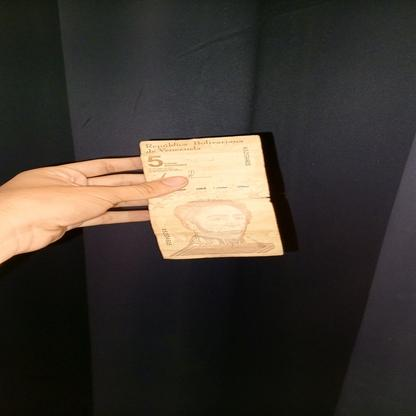five-front-vef: (140, 134, 284, 260)
